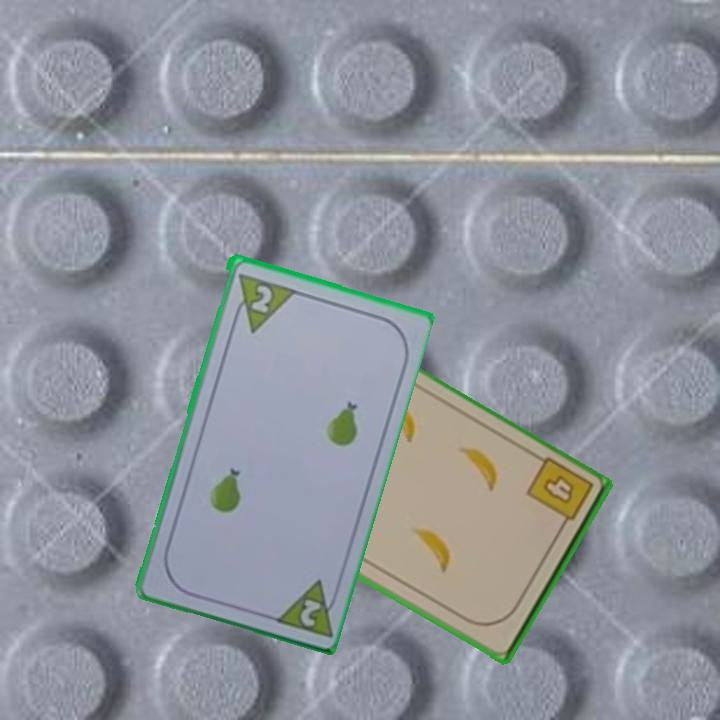2p: (227, 269, 296, 335), (296, 594, 324, 629)
4b: (522, 454, 597, 535)
